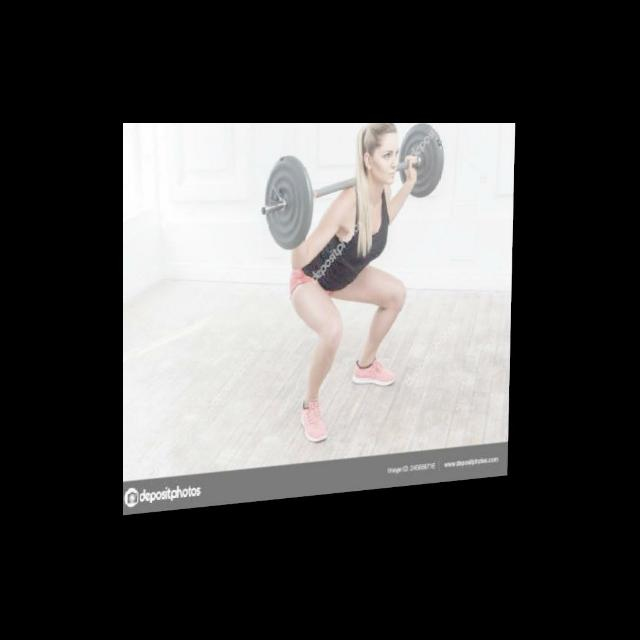barbell: (259, 154, 320, 259)
